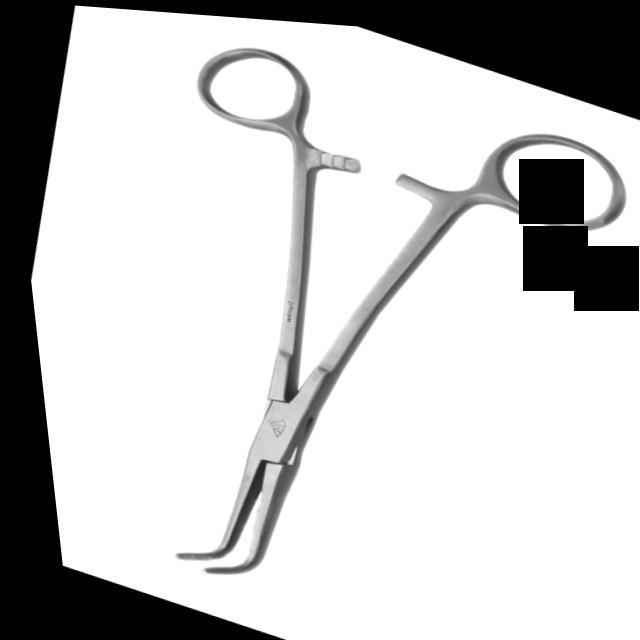Rectangle Cholecystectomy Forceps: (48, 3, 640, 640)
